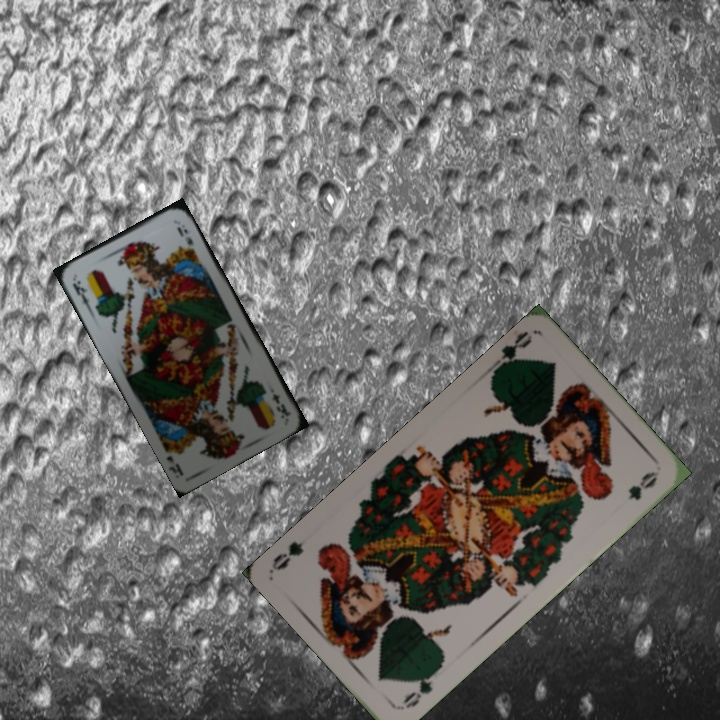EK: (68, 276, 94, 313), (268, 389, 294, 419)
GO: (483, 328, 535, 378), (399, 664, 442, 712)
